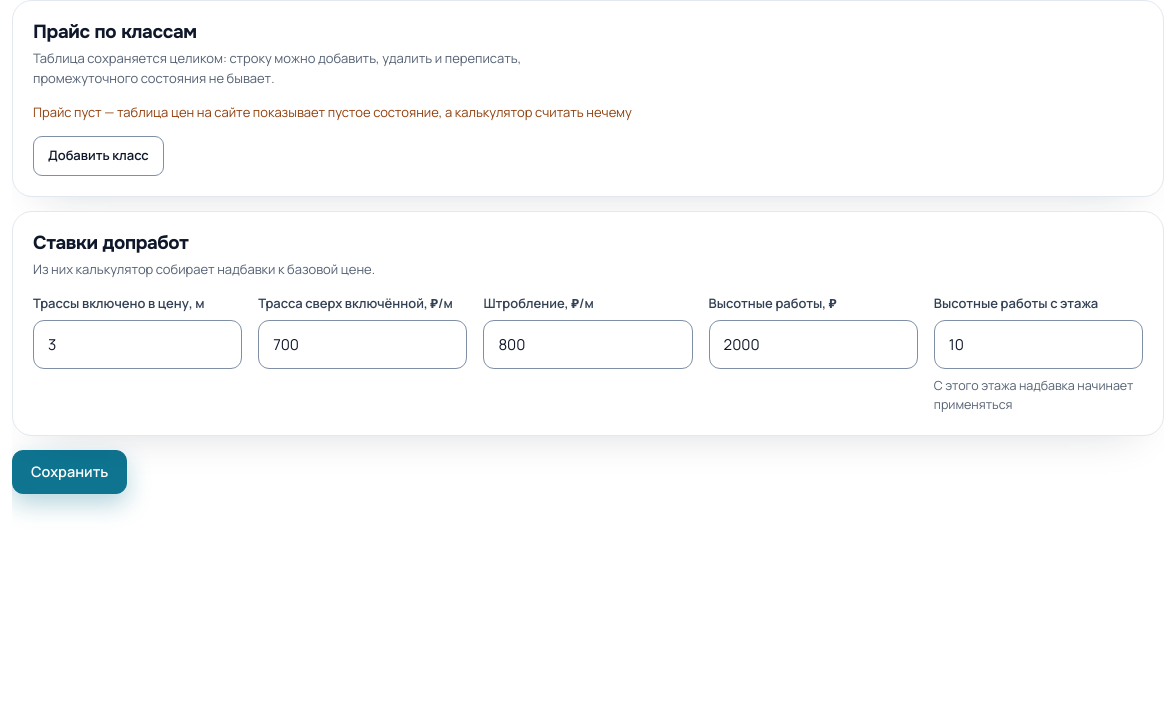
Test case: Форма цен › пустая строка удаляется без вопроса: терять в ней нечего
The width and height of the screenshot is (1164, 720).
Click the button "Добавить класс": {"x": 98, "y": 156} top-left (33, 136), bottom-right (164, 176)
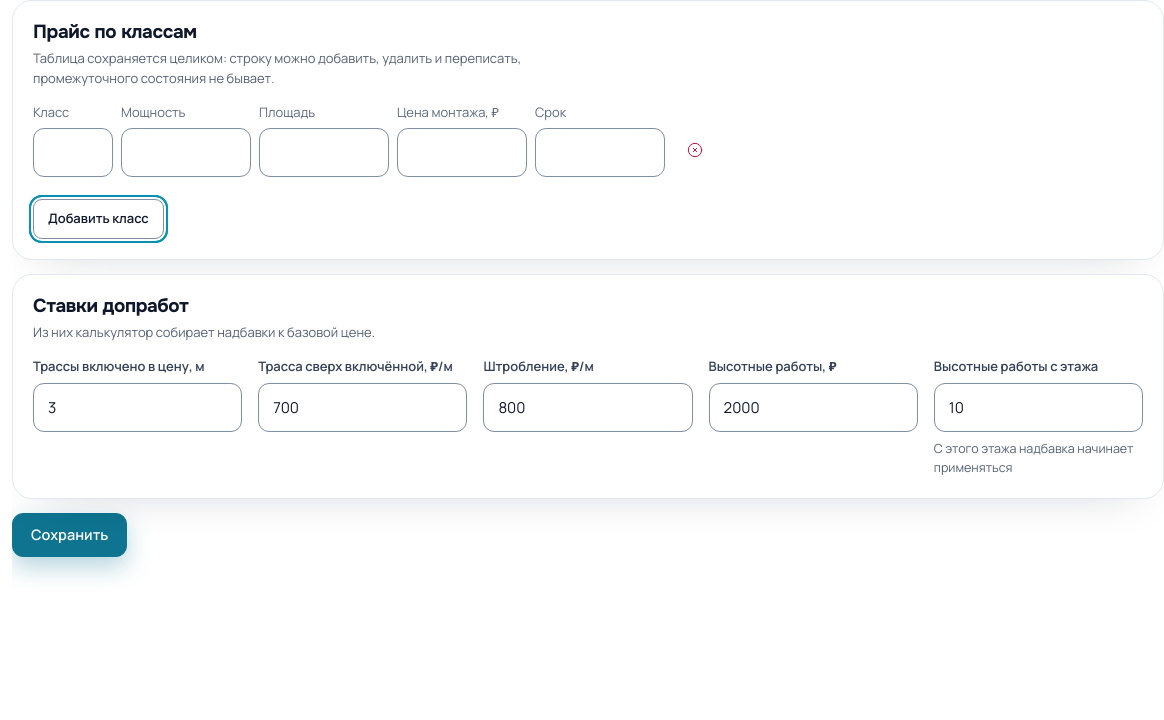
Click the button named "Удалить строку 1": {"x": 695, "y": 150} top-left (673, 128), bottom-right (717, 172)
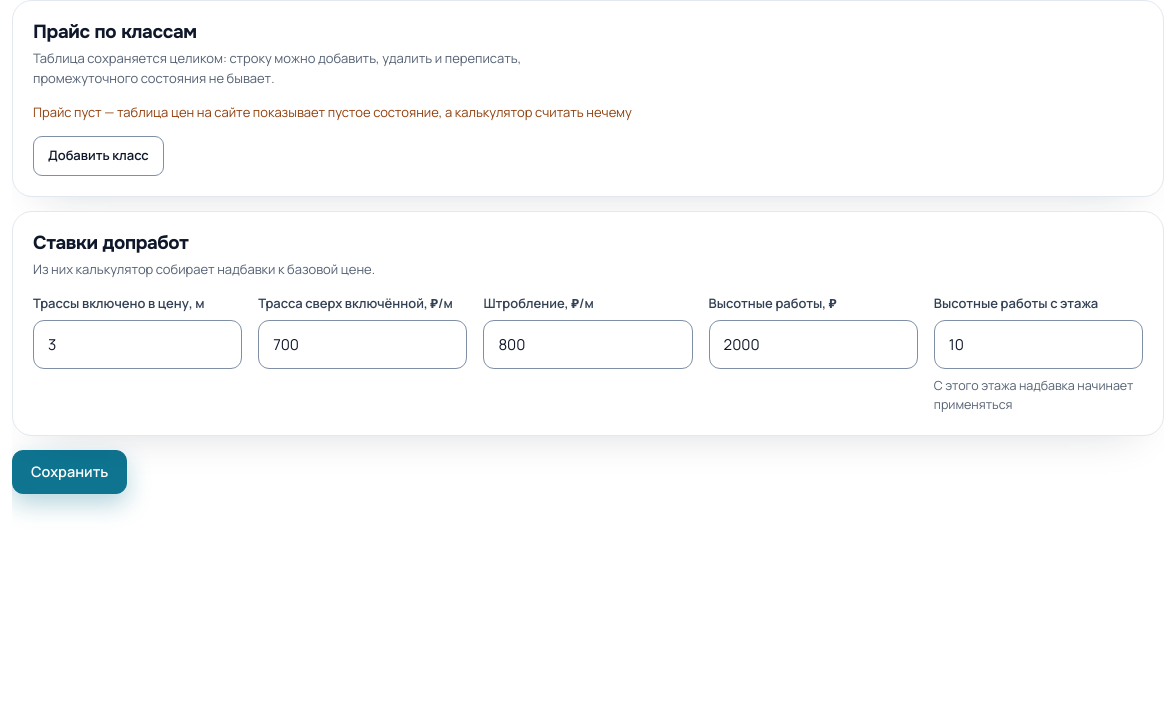
Expected: the text "Прайс пуст — таблица цен на сайте показывает пустое состояние, а калькулятор считать нечему" is shown, top-left (33, 103), bottom-right (632, 121)
